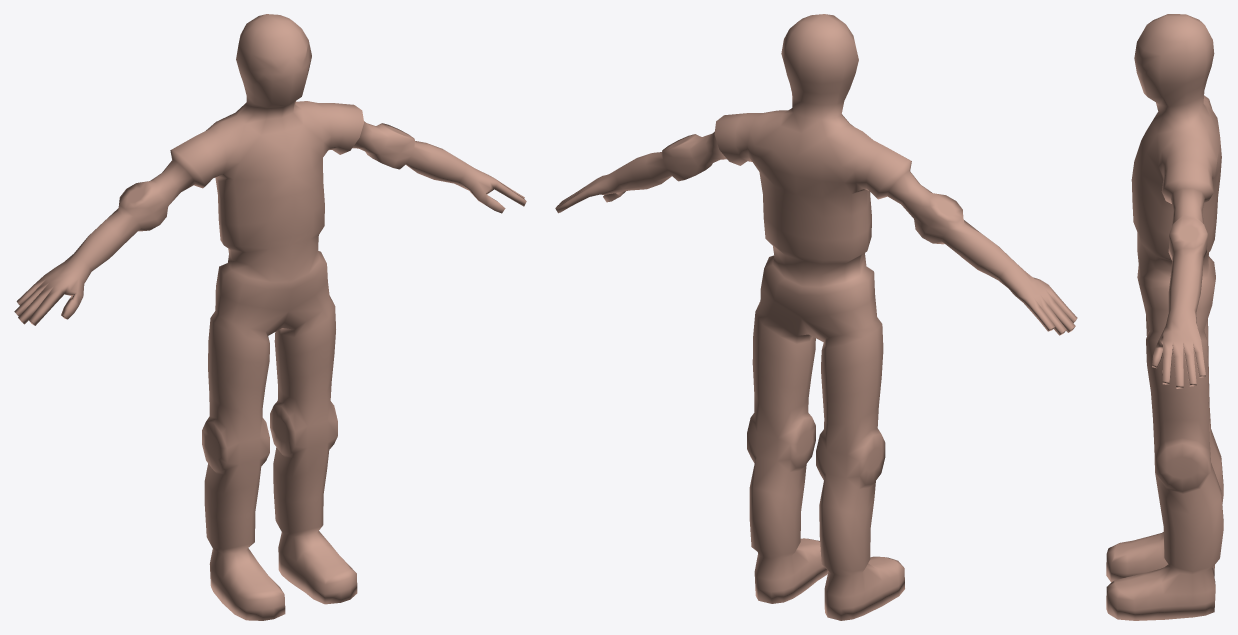
The model's file is maniqui.fbx.
3 views of the same model, side by side, from view 1: azimuth 30°, elevation 25°; view 2: azimuth 150°, elevation 25°; view 3: azimuth 270°, elevation 25° (orthographic).
Parts seen in each view (by area): view 1: RobotHumanoid:robot; view 2: RobotHumanoid:robot; view 3: RobotHumanoid:robot.
Part boxes in pixels (x1,y1,x2,y2): RobotHumanoid:robot: [14, 14, 526, 620]; RobotHumanoid:robot: [555, 14, 1077, 620]; RobotHumanoid:robot: [1106, 14, 1223, 620].
Size of the model in its own units: 1.65 by 1.78 by 0.3301.
